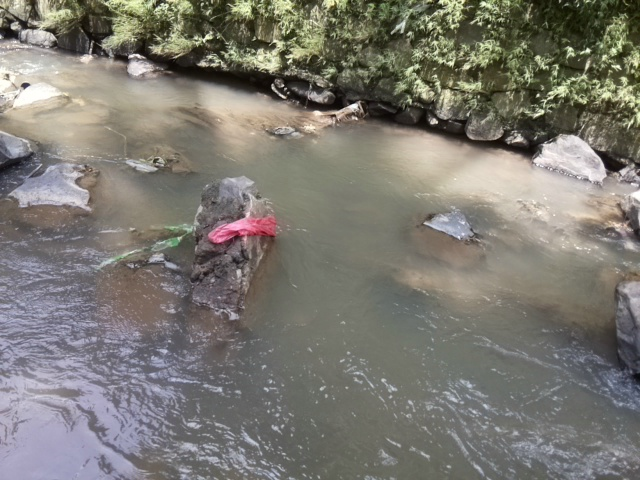Sampah_Plastik: (205, 212, 280, 246)
